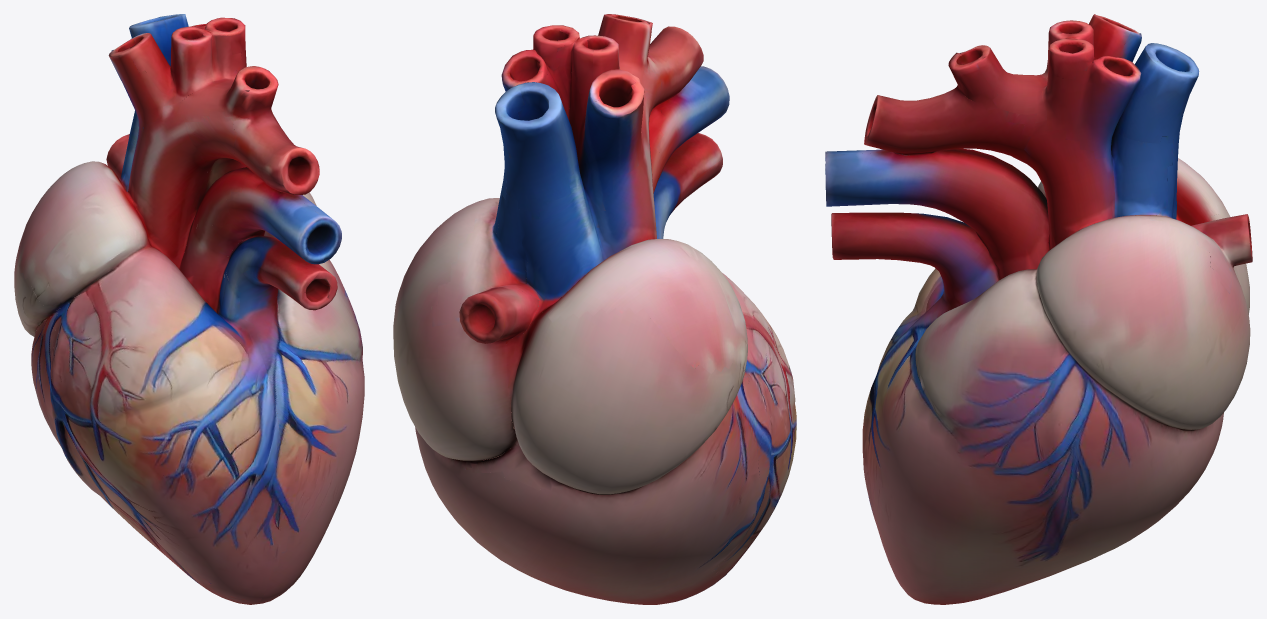
The model's file is heart.glb.
3 renders of one model, left to right at view 1: azimuth 30°, elevation 25°; view 2: azimuth 150°, elevation 25°; view 3: azimuth 270°, elevation 25°, orthographic. The views are drawn at different scales.
Visible parts, largest first — view 1: heart; view 2: heart; view 3: heart.
Part boxes in pixels (x1,y1,x2,y2): heart: (14,14,364,604); heart: (393,14,796,604); heart: (825,14,1252,604).
Bounding box in the file's own units: 0.1456 × 0.2501 × 0.1694.
1 material, 1 textured.
